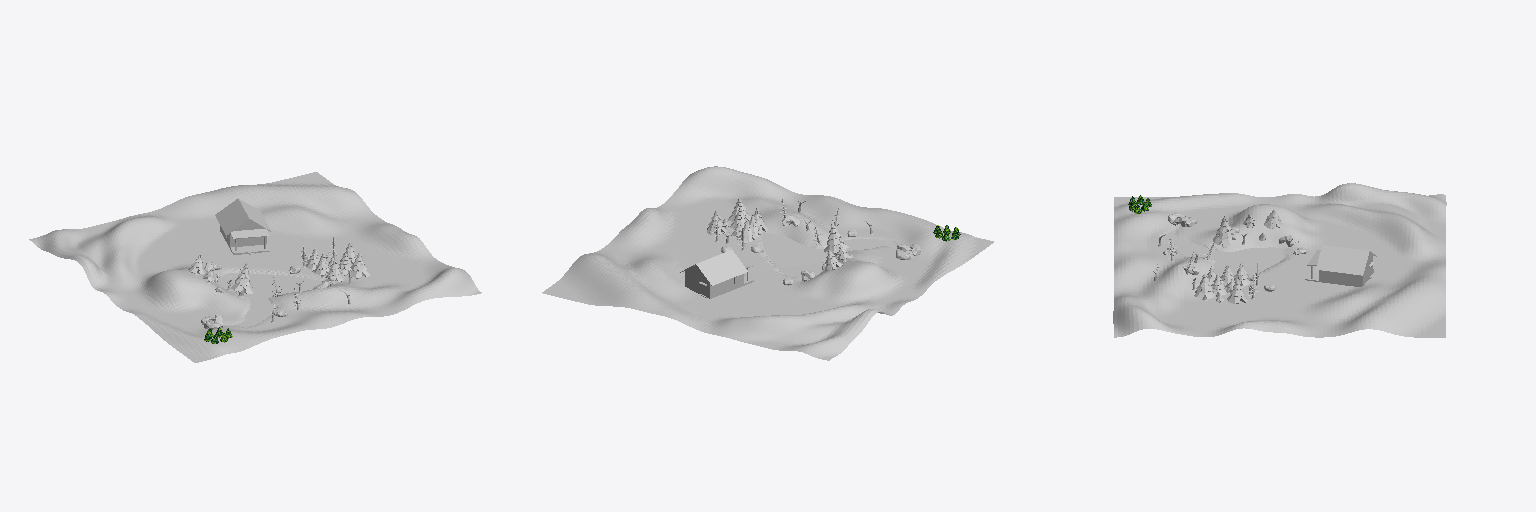
The picture shows the model from 3 angles: view 1: azimuth 30°, elevation 25°; view 2: azimuth 150°, elevation 25°; view 3: azimuth 270°, elevation 25°; orthographic projection.
Visible parts, largest first — view 1: Plane, farmhouse_obj, Plane.001; view 2: Plane, Plane.001, farmhouse_obj; view 3: Plane, farmhouse_obj, Plane.001.
Boxes of the visible parts, x1=… form: Plane: x1=29, y1=172, x2=481, y2=362; farmhouse_obj: x1=215, y1=198, x2=271, y2=254; Plane.001: x1=216, y1=273, x2=329, y2=326; Plane: x1=542, y1=166, x2=993, y2=360; Plane.001: x1=761, y1=232, x2=896, y2=280; farmhouse_obj: x1=680, y1=250, x2=753, y2=298; Plane: x1=1113, y1=183, x2=1446, y2=337; farmhouse_obj: x1=1305, y1=245, x2=1376, y2=286; Plane.001: x1=1163, y1=229, x2=1284, y2=276.
Bounding box in the file's own units: 72.26 × 10.72 × 72.24.
18 materials, 1 textured.